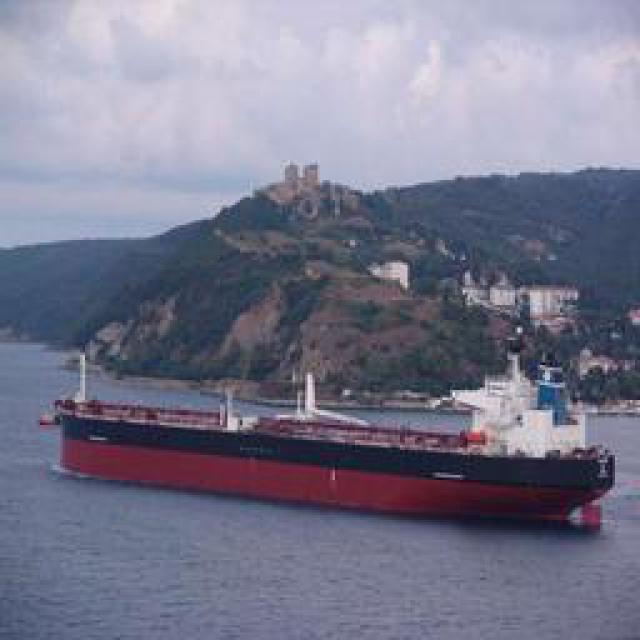Ship: (61, 342, 629, 530)
